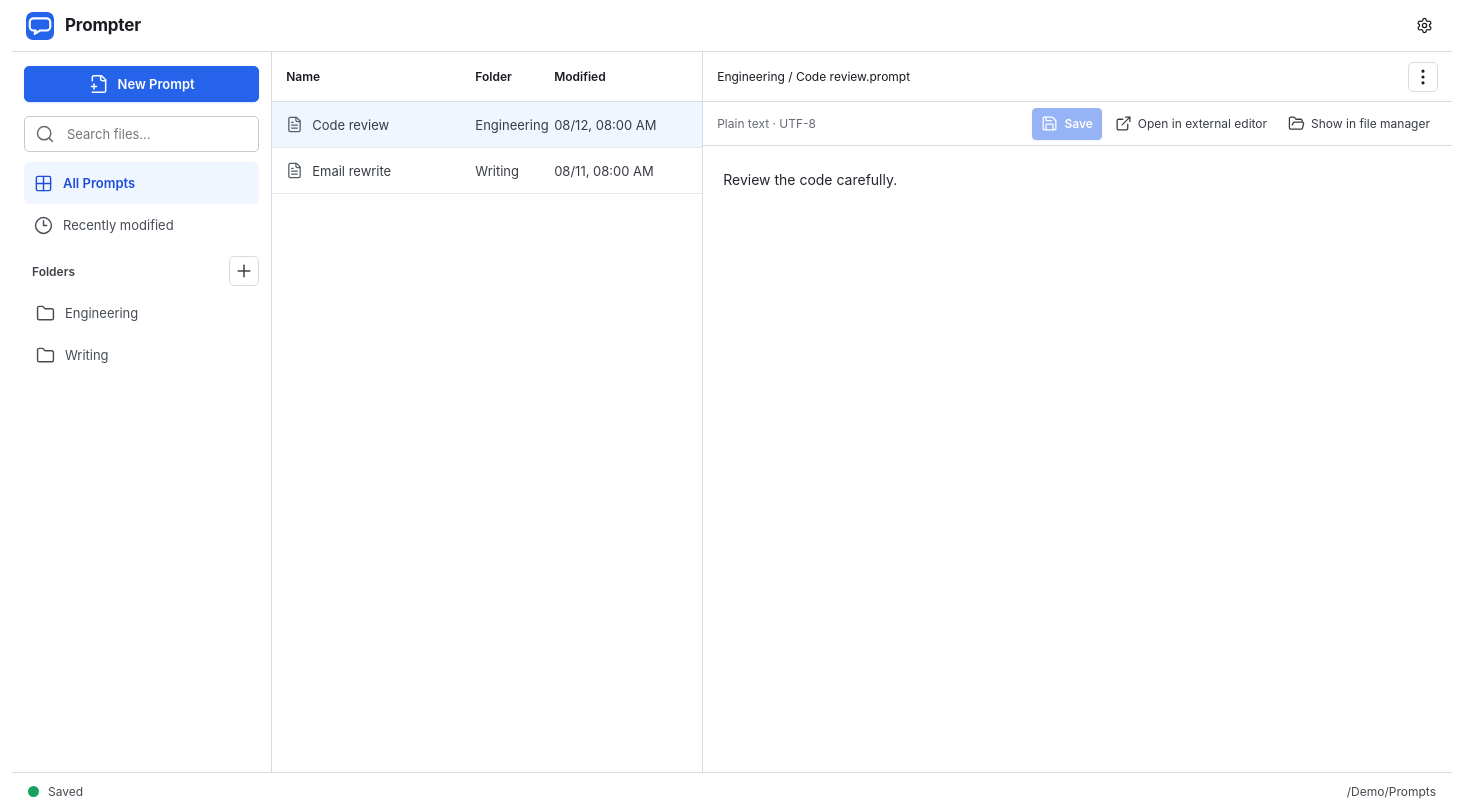
Test: Manager › shows a visible error when revealPrompt fails
Expected: the text box showing "Review the code carefully." is shown, [703,146,1452,772]
Click the button "Show in file manager".
click(1359, 124)  # box [1280,109,1438,138]
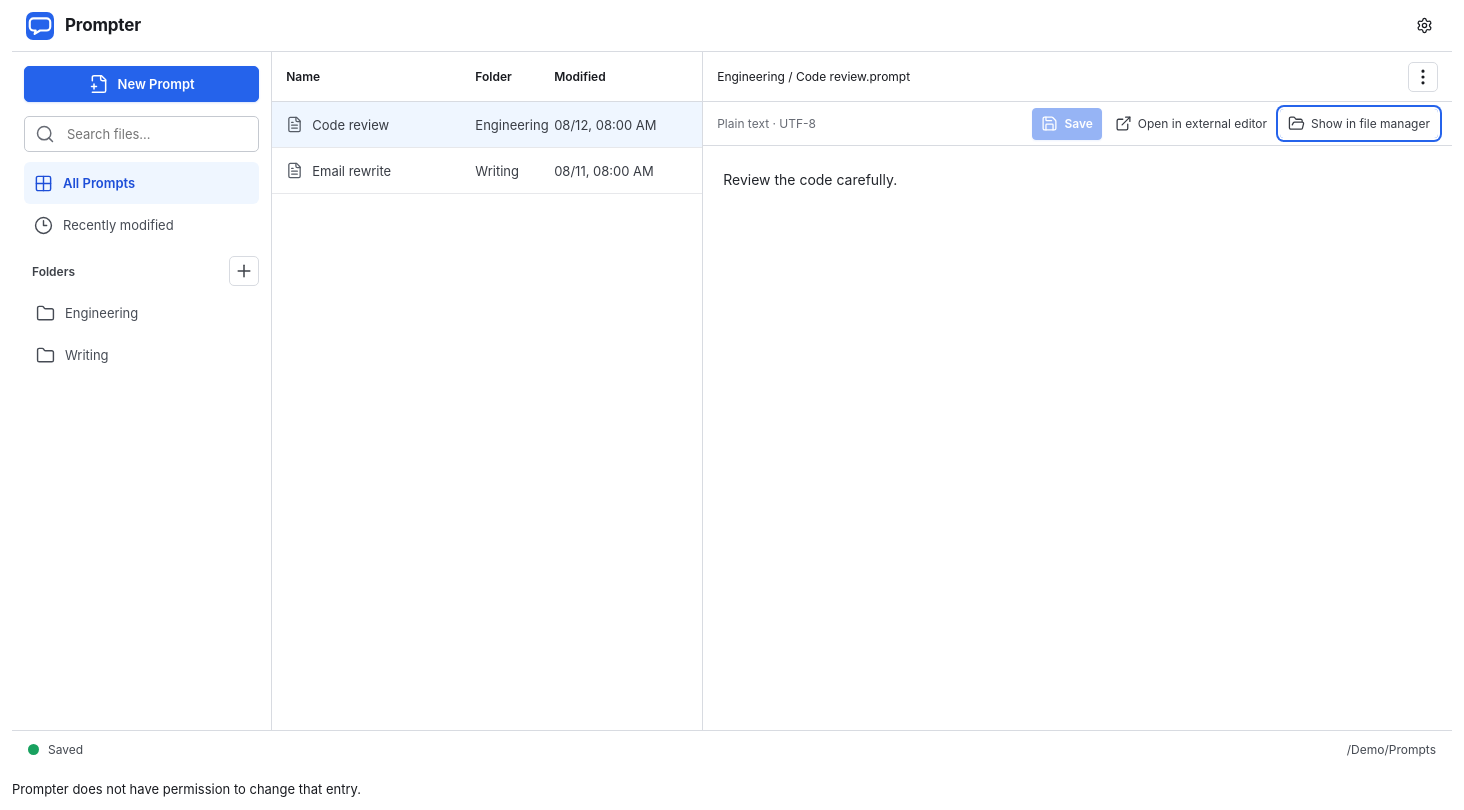
Result: the text "Prompter does not have permission to change that entry." is shown at [12,781,361,797]
